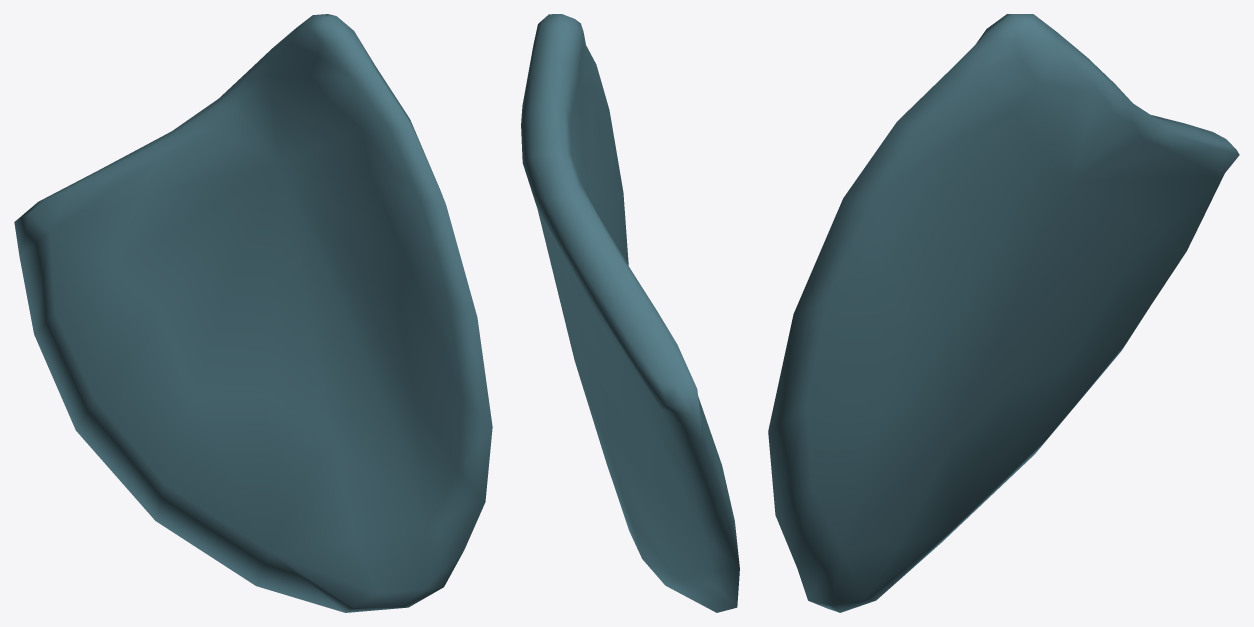
File: Distal_phalanx_hand_1st_finger_left.glb
3 views of the same model, side by side, from view 1: azimuth 30°, elevation 25°; view 2: azimuth 150°, elevation 25°; view 3: azimuth 270°, elevation 25° (orthographic). The views are drawn at different scales.
Parts seen in each view (by area): view 1: Distal_phalanx_of_hand-1st_finger.l_Generated_Mesh_From_X3D.; view 2: Distal_phalanx_of_hand-1st_finger.l_Generated_Mesh_From_X3D.; view 3: Distal_phalanx_of_hand-1st_finger.l_Generated_Mesh_From_X3D..
Part boxes in pixels (left/top/right/bottom): Distal_phalanx_of_hand-1st_finger.l_Generated_Mesh_From_X3D.: left=14, top=14, right=492, bottom=612; Distal_phalanx_of_hand-1st_finger.l_Generated_Mesh_From_X3D.: left=521, top=14, right=739, bottom=612; Distal_phalanx_of_hand-1st_finger.l_Generated_Mesh_From_X3D.: left=768, top=14, right=1239, bottom=612.
Bounding box in the file's own units: 0.0035 × 0.00644 × 0.00455.
